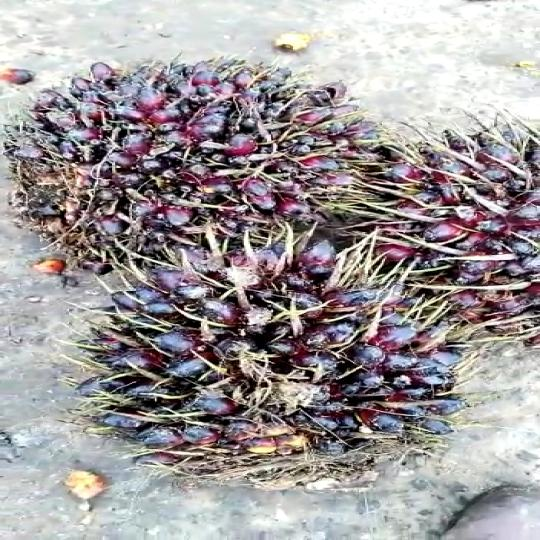kurang masak: (113, 251, 471, 505), (0, 40, 345, 284), (319, 119, 540, 351)
